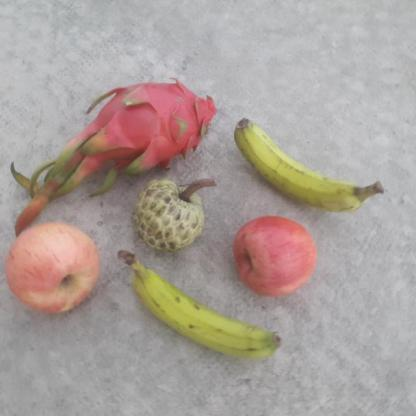annona: (130, 179, 220, 252)
apple: (4, 219, 102, 314), (228, 214, 321, 303)
banana: (118, 250, 294, 360), (233, 114, 385, 216)
pitaya: (86, 79, 223, 177)
